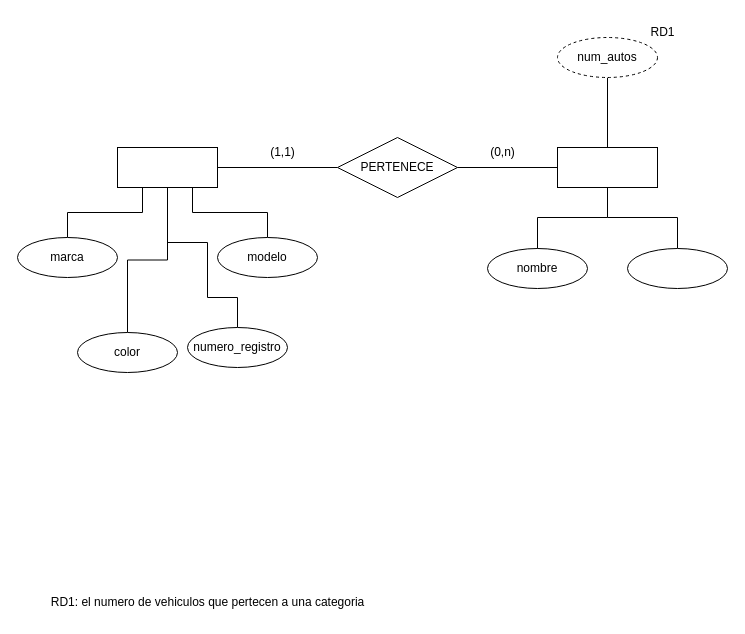
Image size: 745x634. Some labels were removed from this diagram. Here are the shapes that lost their labels. From the top down, the centre of each, then its label:
the point at 167,167: AUTOMOVILES
the point at 607,167: CATEGORIA
the point at 677,268: tarifa
